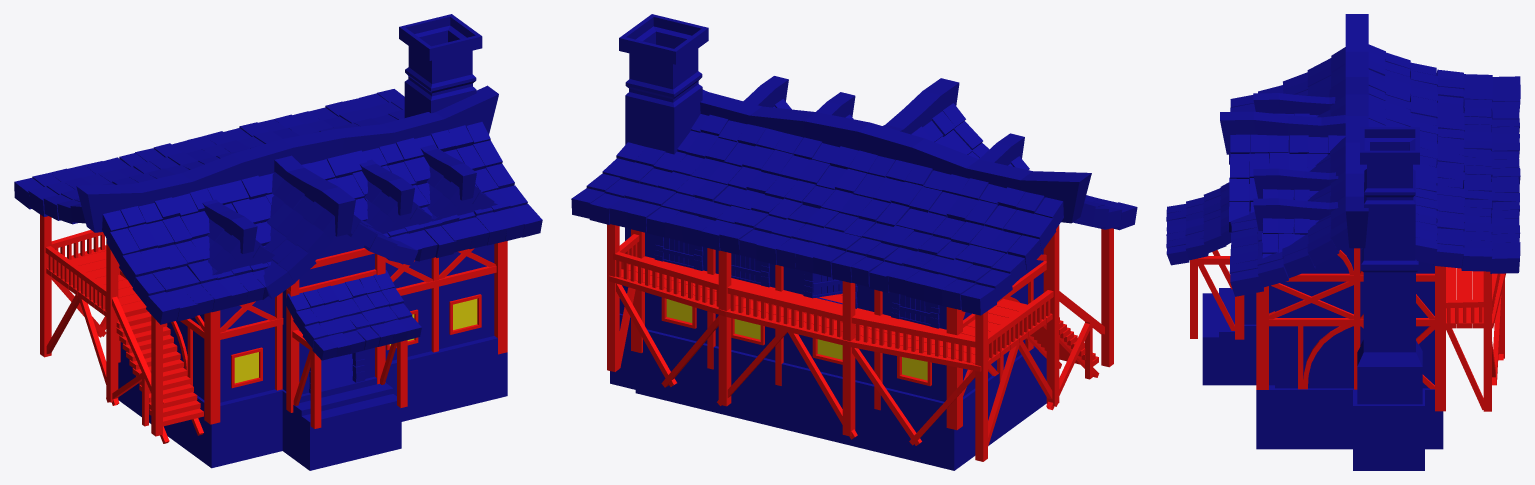
3 views of the same model, side by side, from view 1: azimuth 30°, elevation 25°; view 2: azimuth 150°, elevation 25°; view 3: azimuth 270°, elevation 25° (orthographic). The views are drawn at different scales.
Visible parts, largest first — view 1: 对象050, 立方体.015, 立方体.033, 立方体.027, 对象052, 平面.001; view 2: 对象050, 对象052, 立方体.033, 立方体.015, 立方体.027, 平面.001, 对象045, 对象047, 对象046; view 3: 对象050, 立方体.015, 立方体.033, 对象052, 立方体.027.
Part boxes in pixels (x1,y1,x2,y2): 对象050: (14, 85, 542, 324); 立方体.015: (167, 14, 494, 402); 立方体.033: (118, 336, 507, 470); 立方体.027: (46, 248, 496, 436); 对象052: (40, 214, 507, 443); 平面.001: (234, 299, 477, 383); 对象050: (571, 76, 1137, 315); 对象052: (607, 224, 1099, 461); 立方体.033: (610, 313, 1046, 470); 立方体.015: (619, 14, 1043, 401); 立方体.027: (616, 228, 1113, 446); 平面.001: (666, 299, 927, 380); 对象045: (899, 294, 930, 326); 对象047: (663, 237, 693, 268); 对象046: (731, 253, 760, 284); 对象050: (1220, 14, 1520, 296); 立方体.015: (1166, 127, 1434, 404); 立方体.033: (1202, 288, 1443, 470); 对象052: (1256, 248, 1505, 411); 立方体.027: (1190, 250, 1503, 409).
Size of the model in its own units: 1431 by 1066 by 1086.
